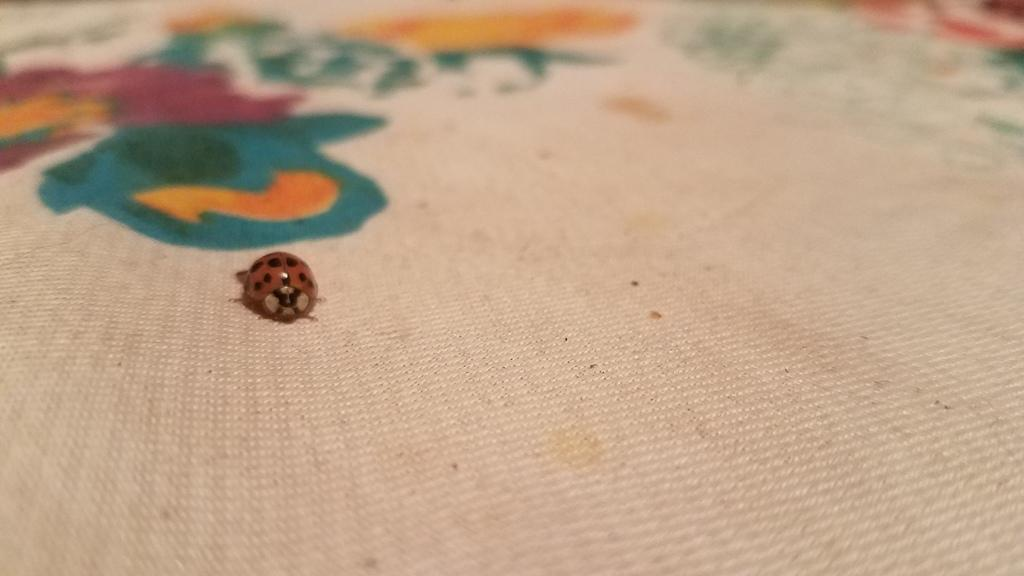ladybug: (228, 249, 329, 326)
